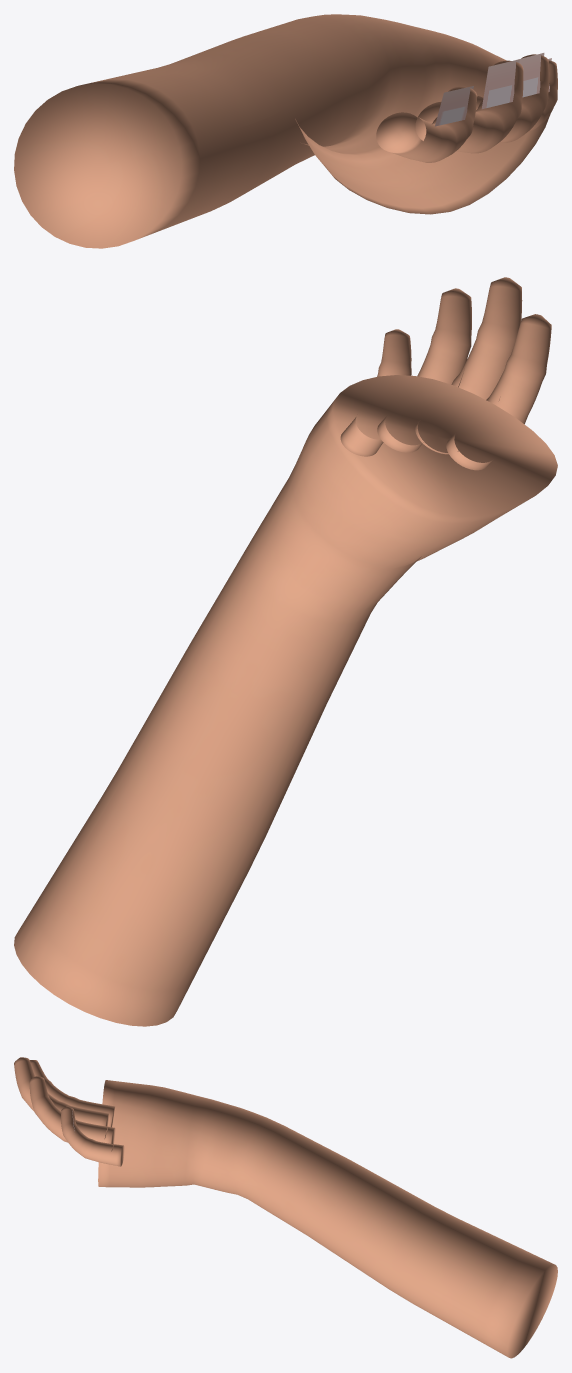
File: hand_grip_left.glb
The picture shows the model from 3 angles, top to bottom: view 1: azimuth 30°, elevation 25°; view 2: azimuth 150°, elevation 25°; view 3: azimuth 270°, elevation 25°; orthographic projection. The views are drawn at different scales.
Visible parts, largest first — view 1: hand_grip_left; view 2: hand_grip_left; view 3: hand_grip_left.
Boxes of the visible parts, x1=… form: hand_grip_left: x1=14, y1=14, x2=557, y2=248; hand_grip_left: x1=14, y1=277, x2=557, y2=1026; hand_grip_left: x1=14, y1=1057, x2=557, y2=1358.
Bounding box in the file's own units: 0.1047 × 0.2058 × 0.3472.
Materials: 1 (1 with a texture image).
